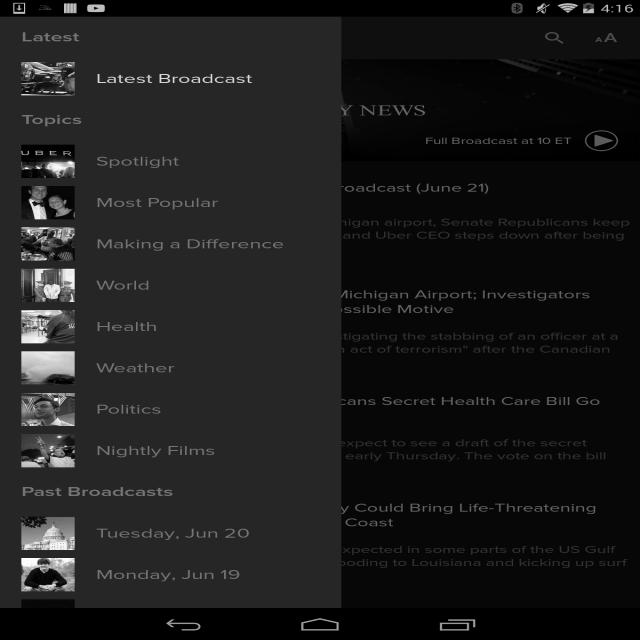ImageButton: (9, 17, 68, 59)
ImageView: (0, 60, 640, 162), (4, 166, 158, 262), (4, 380, 158, 476), (4, 274, 158, 369), (4, 487, 158, 582), (4, 593, 158, 640), (4, 223, 68, 263), (4, 543, 68, 583), (4, 330, 68, 369), (4, 437, 68, 476), (21, 227, 75, 261), (21, 351, 75, 385), (21, 599, 75, 633), (21, 62, 75, 95), (21, 145, 75, 178), (21, 186, 75, 219), (21, 269, 75, 302), (21, 310, 75, 343), (21, 393, 75, 426), (21, 434, 75, 467), (21, 517, 75, 550), (21, 558, 75, 591), (584, 130, 618, 151)
TextView: (175, 195, 636, 263), (175, 316, 636, 369), (175, 423, 636, 476), (175, 530, 636, 582), (0, 16, 341, 58), (0, 99, 341, 140), (0, 471, 341, 512), (175, 500, 636, 530), (175, 394, 636, 423), (175, 288, 636, 316), (175, 608, 636, 636), (75, 223, 341, 265), (75, 347, 341, 389), (75, 595, 341, 637), (75, 58, 341, 99), (75, 141, 341, 182), (75, 182, 341, 223), (75, 265, 341, 306), (75, 306, 341, 347), (75, 389, 341, 430), (75, 430, 341, 471), (75, 513, 341, 554), (75, 554, 341, 595), (175, 181, 636, 195), (425, 135, 572, 147), (580, 22, 632, 54), (529, 22, 580, 54), (175, 169, 215, 181), (175, 489, 215, 501), (175, 276, 215, 287), (175, 383, 215, 394), (175, 596, 215, 607)
